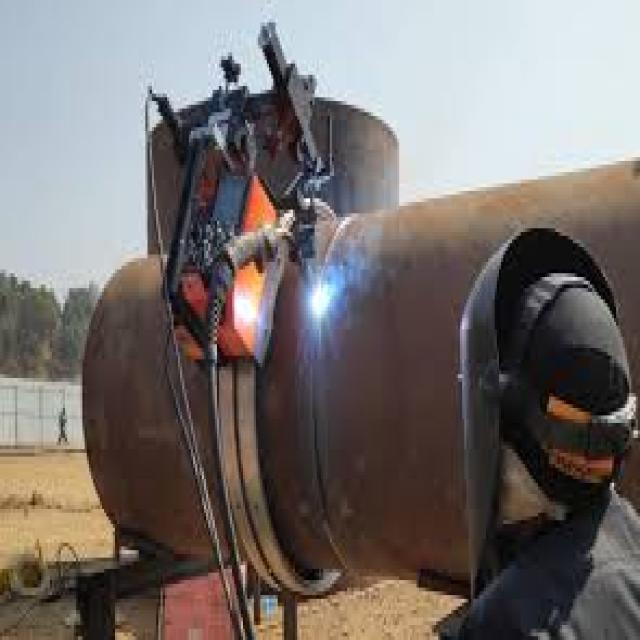welding: (310, 278, 332, 317)
